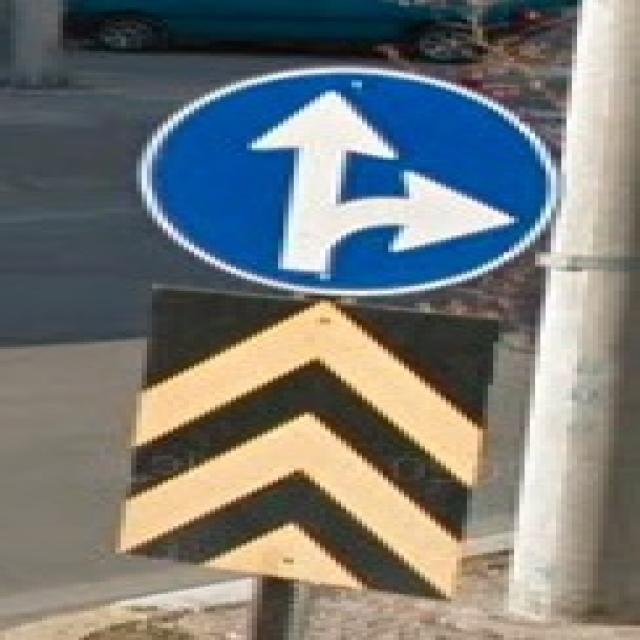Straight or Right: (130, 66, 555, 292)
